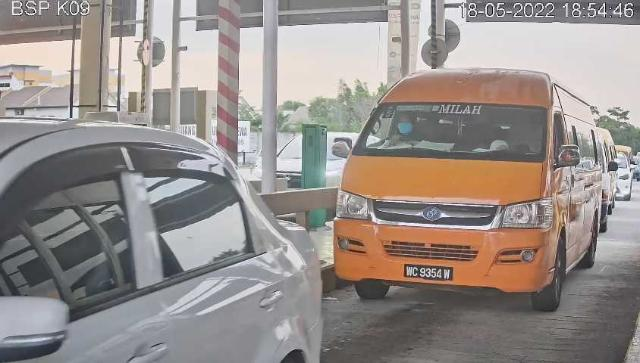License_Plate: (404, 264, 455, 285)
van: (335, 69, 604, 313)
